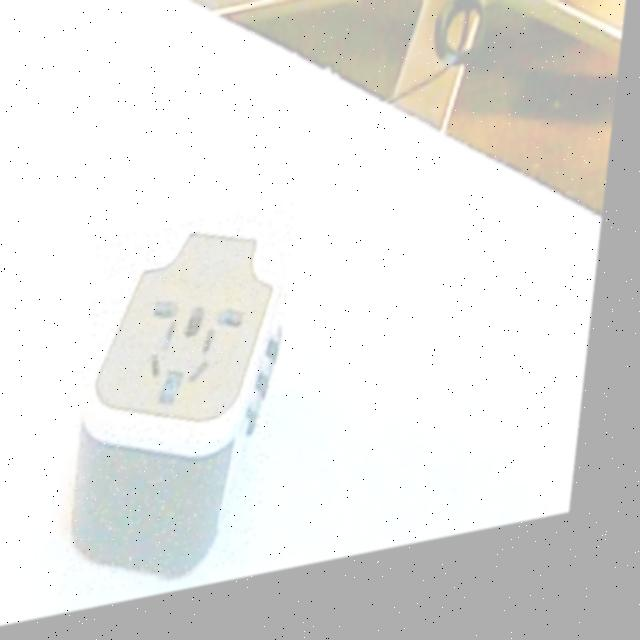adapter: (71, 214, 303, 606)
